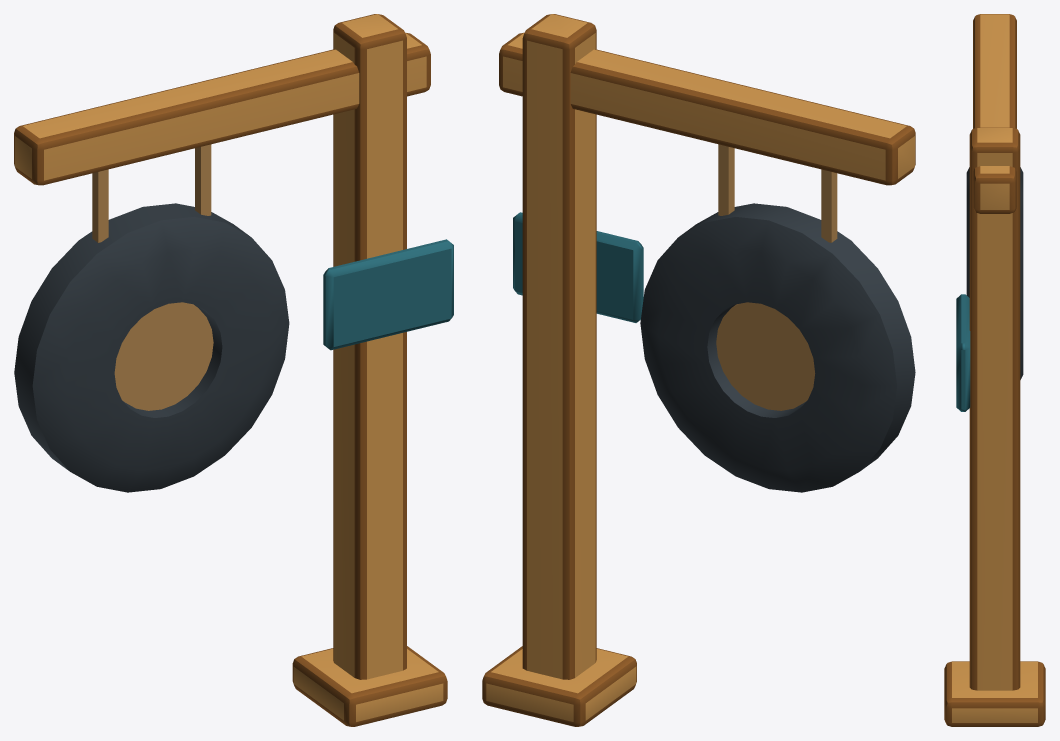
File: PropWheelSign.fbx
3 views of the same model, side by side, from view 1: azimuth 30°, elevation 25°; view 2: azimuth 150°, elevation 25°; view 3: azimuth 270°, elevation 25° (orthographic). The views are drawn at different scales.
Visible parts, largest first — view 1: PropWheelSign_LOD0; view 2: PropWheelSign_LOD0; view 3: PropWheelSign_LOD0.
Boxes of the visible parts, x1=… form: PropWheelSign_LOD0: x1=14, y1=14, x2=453, y2=726; PropWheelSign_LOD0: x1=482, y1=14, x2=915, y2=726; PropWheelSign_LOD0: x1=944, y1=14, x2=1045, y2=726.
Size of what is drawn, in the model's own units: 0.64 by 1 by 0.16.
